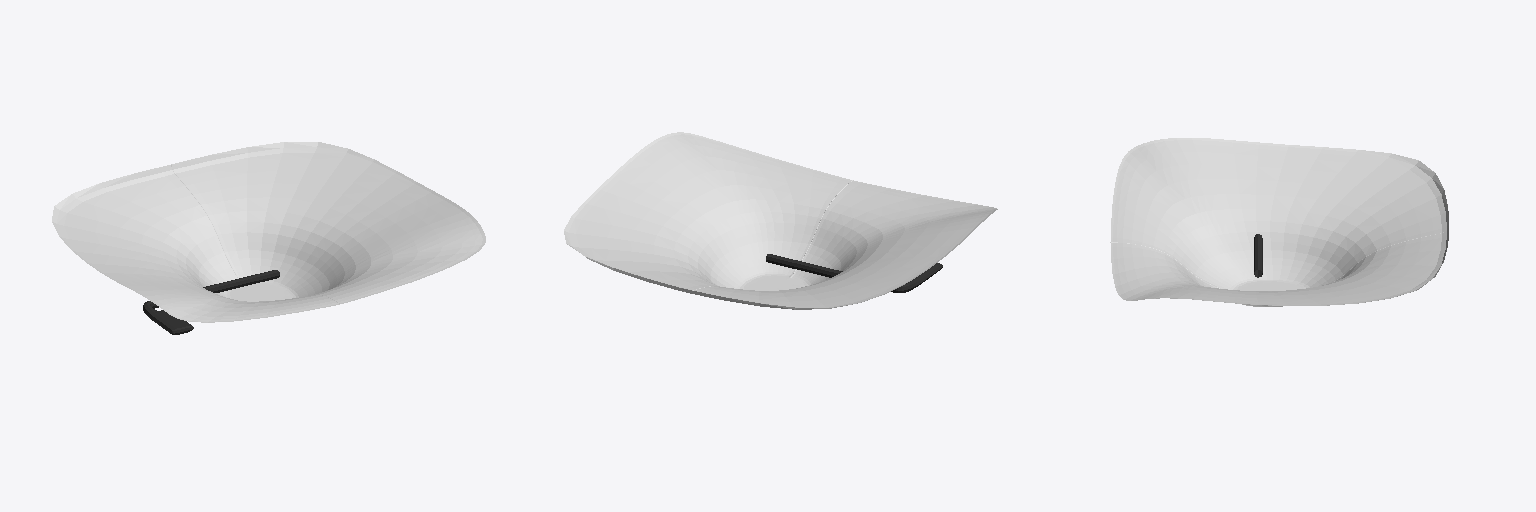
File: con1.obj
3 renders of one model, left to right at view 1: azimuth 30°, elevation 25°; view 2: azimuth 150°, elevation 25°; view 3: azimuth 270°, elevation 25°, orthographic.
Parts seen in each view (by area): view 1: con1; view 2: con1; view 3: con1.
Boxes of the visible parts, x1=… form: con1: x1=52, y1=142, x2=485, y2=334; con1: x1=564, y1=132, x2=997, y2=309; con1: x1=1110, y1=138, x2=1448, y2=306.
Bounding box in the file's own units: 20.61 × 4.46 × 18.1.